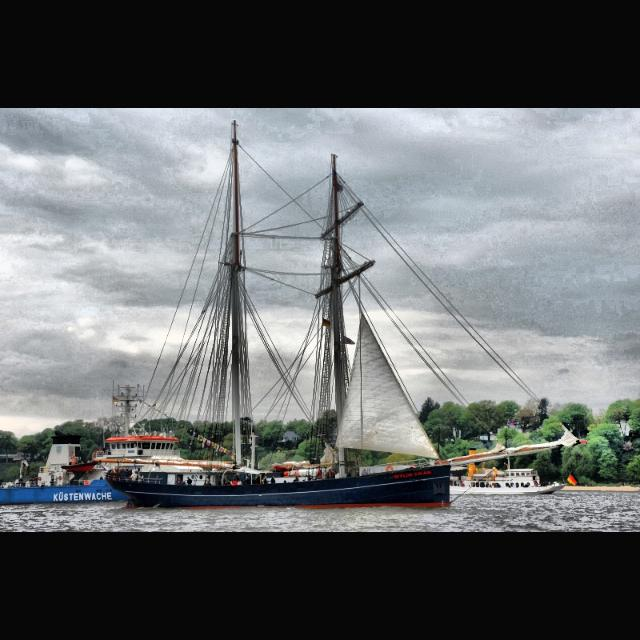sailing_vessel: (104, 120, 586, 508)
